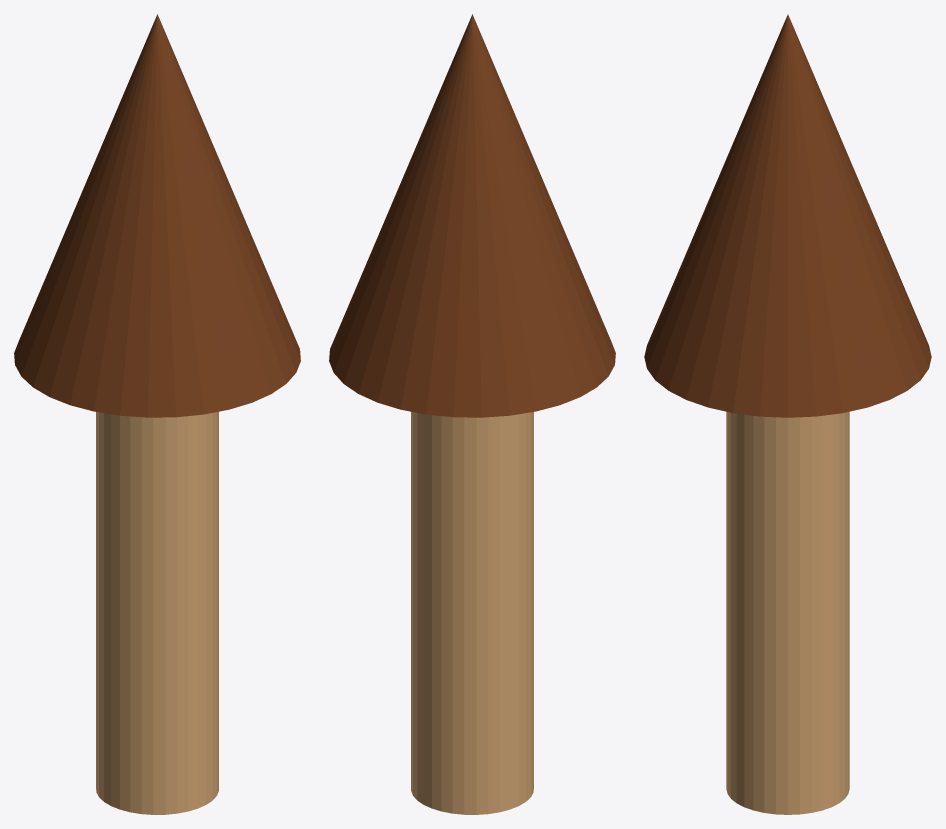
The model's file is arrow.fbx.
The picture shows the model from 3 angles, left to right: view 1: azimuth 30°, elevation 25°; view 2: azimuth 150°, elevation 25°; view 3: azimuth 270°, elevation 25°; orthographic projection.
Visible parts, largest first — view 1: 円錐, 円柱; view 2: 円錐, 円柱; view 3: 円錐, 円柱.
Boxes of the visible parts, x1=… form: 円錐: x1=14, y1=14, x2=300, y2=417; 円柱: x1=96, y1=411, x2=218, y2=814; 円錐: x1=329, y1=14, x2=615, y2=417; 円柱: x1=411, y1=411, x2=533, y2=814; 円錐: x1=644, y1=14, x2=931, y2=417; 円柱: x1=726, y1=411, x2=849, y2=814.
Size of the model in its own units: 248 by 736 by 248.
